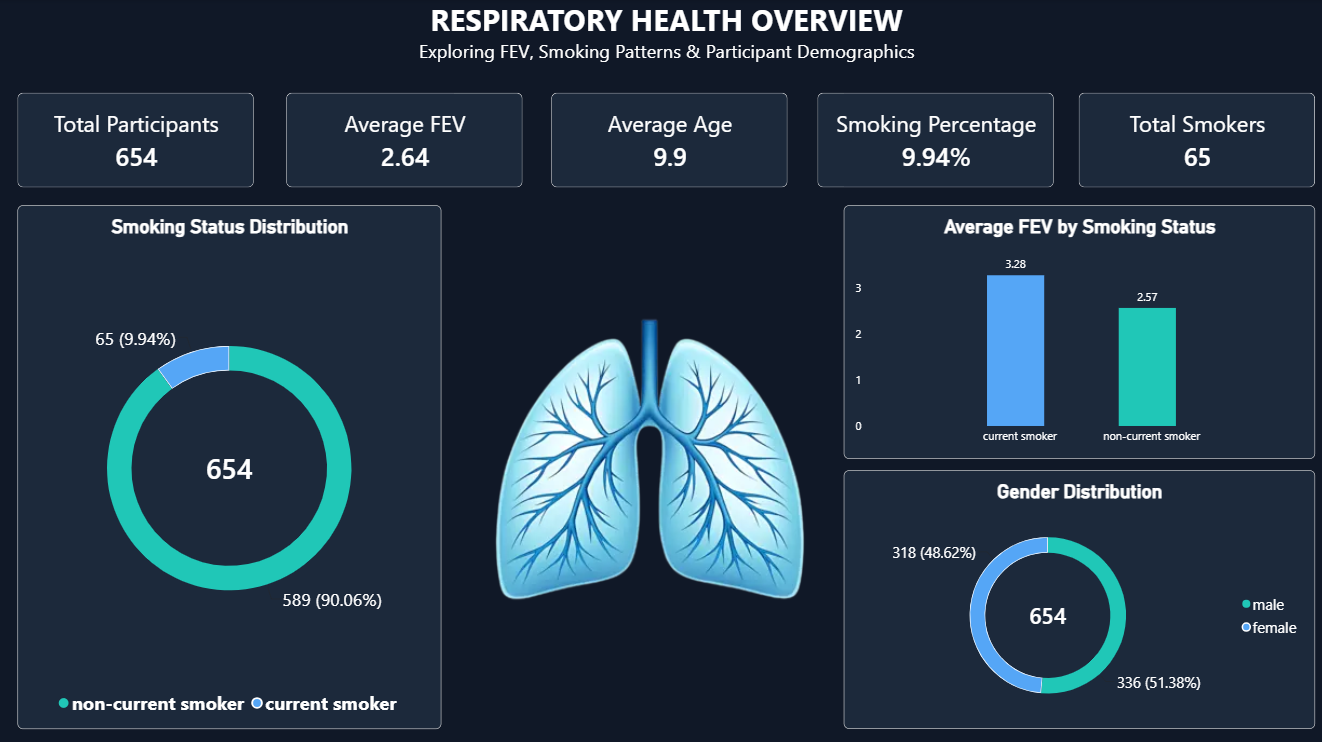

The page's visual inventory and layout, read from the dashboard file:
{"tool":"powerbi","page":{"name":"Respiratory Health Overview","canvas":[1920,1080],"ordinal":0},"visuals":[{"type":"textbox","box":[10.9,0,1909.2,108.6],"z":0},{"type":"cardVisual","fields":{"Data":["fev_data.Total Participants"]},"box":[25.3,135.7,342,137.5],"z":1000},{"type":"cardVisual","fields":{"Data":["fev_data.Average FEV"]},"box":[414.4,135.7,342,137.5],"z":2000},{"type":"cardVisual","fields":{"Data":["fev_data.Average Age"]},"box":[798.1,135.7,342,137.5],"z":3000},{"type":"cardVisual","fields":{"Data":["fev_data.Smoking Percentage"]},"box":[1183.5,135.7,342,137.5],"z":4000},{"type":"cardVisual","fields":{"Data":["fev_data.Total Smokers"]},"box":[1561.7,135.7,342,137.5],"z":4001},{"type":"donutChart","title":"Smoking Status Distribution","fields":{"Category":["fev_data.smoke"],"Y":["CountNonNull(fev_data.id)"]},"box":[25.3,298.6,613.5,758.2],"z":4002},{"type":"clusteredColumnChart","title":"Average FEV by Smoking Status","fields":{"Category":["fev_data.smoke"],"Y":["fev_data.Average FEV"]},"box":[1221.5,298.6,682.2,367.4],"z":4003},{"type":"donutChart","title":"Gender Distribution","fields":{"Category":["fev_data.sex"],"Y":["CountNonNull(fev_data.id)"]},"box":[1221.5,682.2,682.2,374.6],"z":4004},{"type":"image","box":[658.7,275.1,562.8,781.8],"z":4007}]}

Visuals, with their boxes in screenshot pixels (x1, y1, x2, y2), scaled from the page's 1920x1080 canvas onto the 1322x742 screenshot:
textbox: 8,0,1321,75
cardVisual - fev_data.Total Participants: 17,93,253,188
cardVisual - fev_data.Average FEV: 285,93,521,188
cardVisual - fev_data.Average Age: 550,93,785,188
cardVisual - fev_data.Smoking Percentage: 815,93,1050,188
cardVisual - fev_data.Total Smokers: 1075,93,1311,188
"Smoking Status Distribution" donutChart: 17,205,440,726
"Average FEV by Smoking Status" clusteredColumnChart: 841,205,1311,458
"Gender Distribution" donutChart: 841,469,1311,726
image: 454,189,841,726
